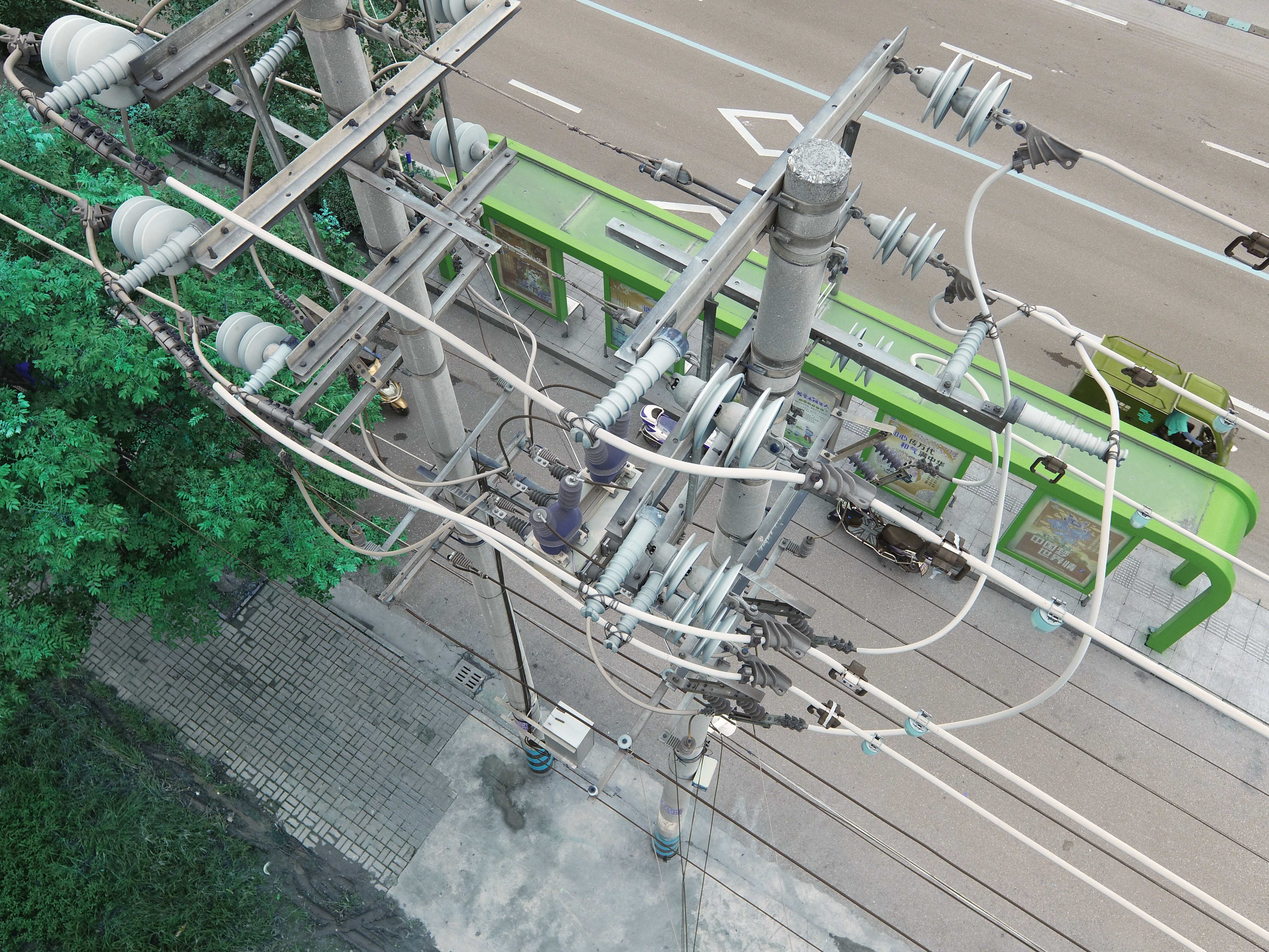severe_soiling_no_discharge_whole: (587, 785, 599, 796)
